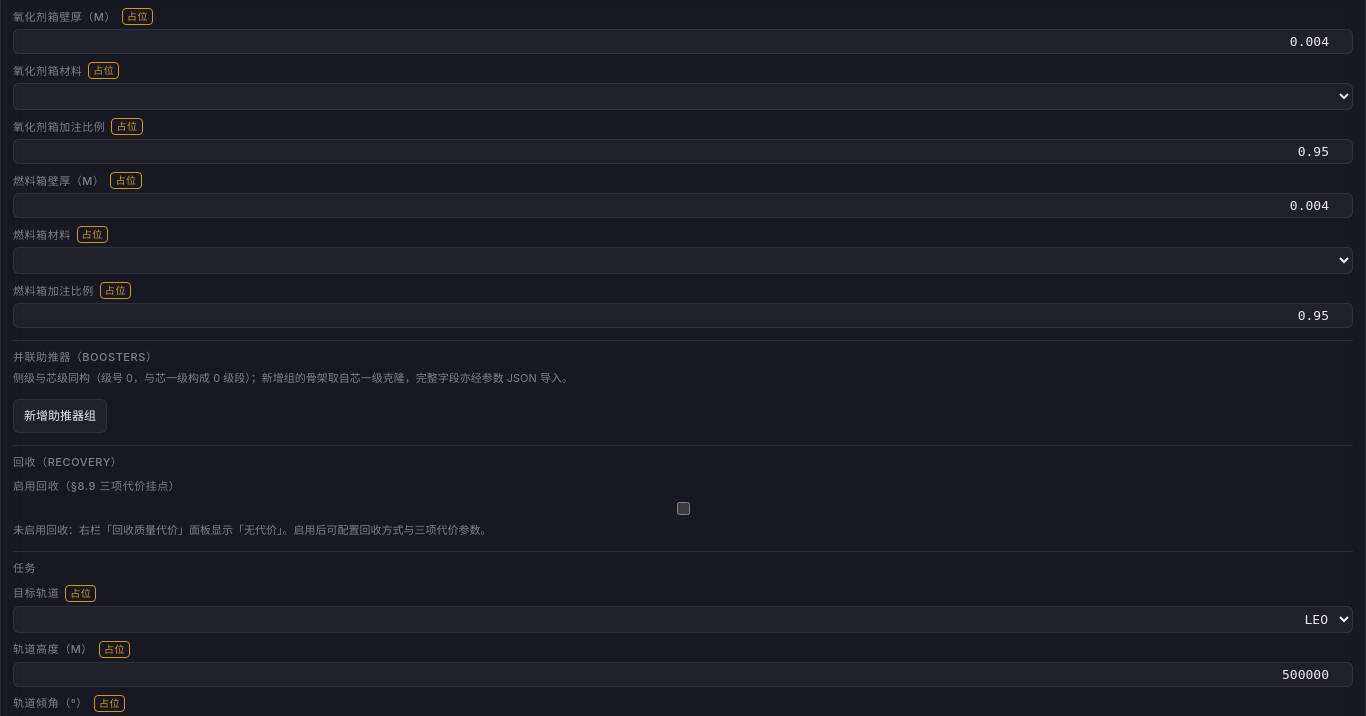
Test: 助推器组（OI-36：field_path 通路 boosters[i].…） › 新增组 → 芯一级克隆 + 级号 0 + count 2；删除组 → boosters 清空
This screenshot has width=1366, height=716.
(page scrolled)
Step 1. Click the button "新增助推器组" → (60, 416), box [13,400,107,433]
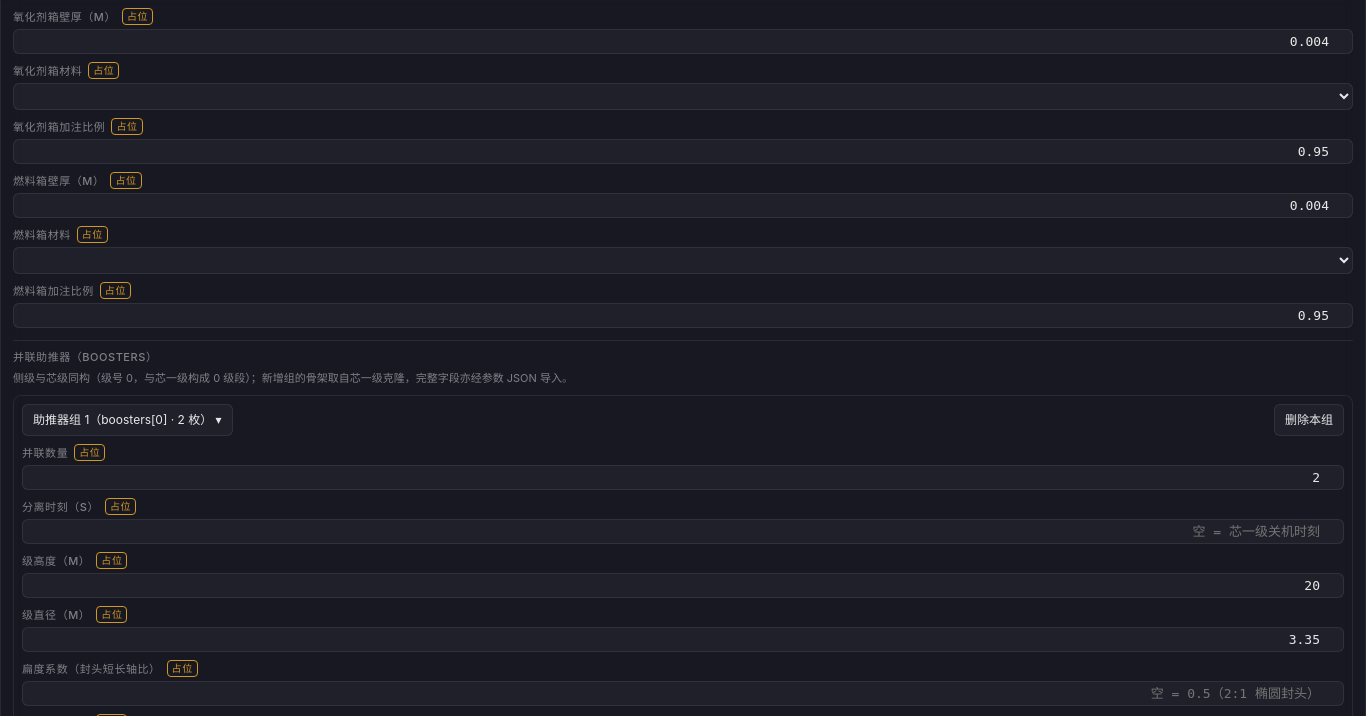
Expected: the heading "并联助推器（boosters）" is shown, [13,350,157,364]
Expected: the button "助推器组 1（boosters[0] · 2 枚） ▾" is shown, [22,404,233,436]
Step 2. Click the button "删除本组" → (1309, 420), box [1274,404,1344,436]
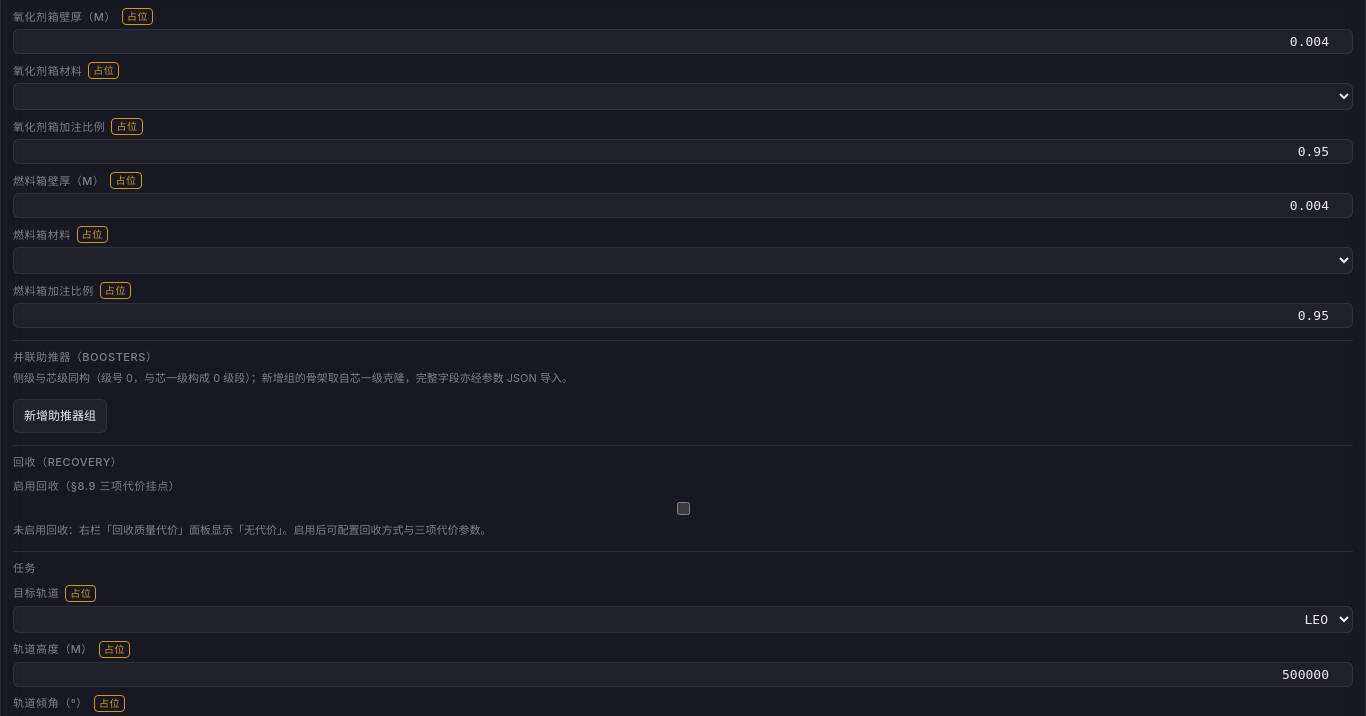
Expected: the button "助推器组 1" is gone
